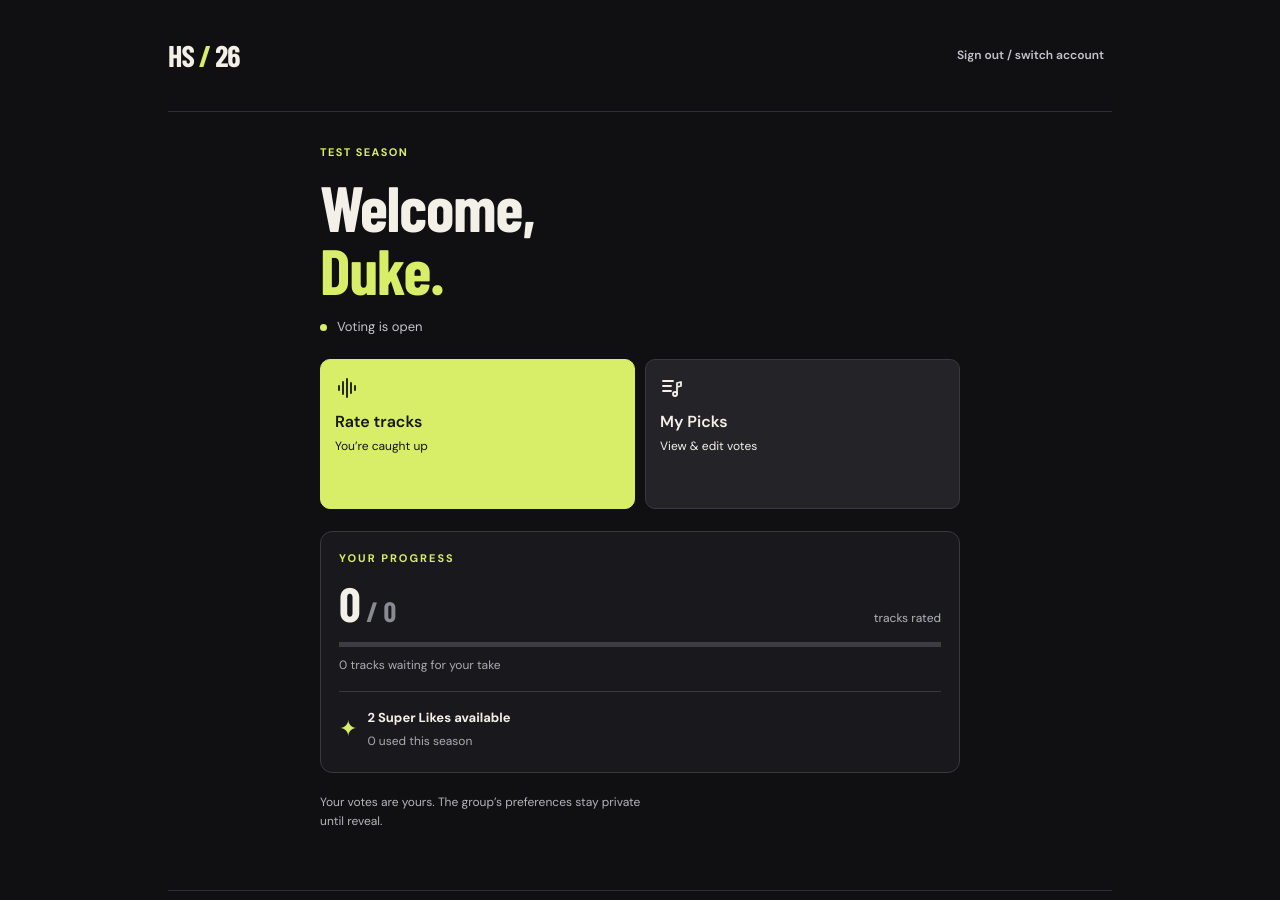
it: My Picks › shows an empty state and is reachable from Home
Click the link "My Picks View & edit votes" at (694, 422), box [645,359,960,509]
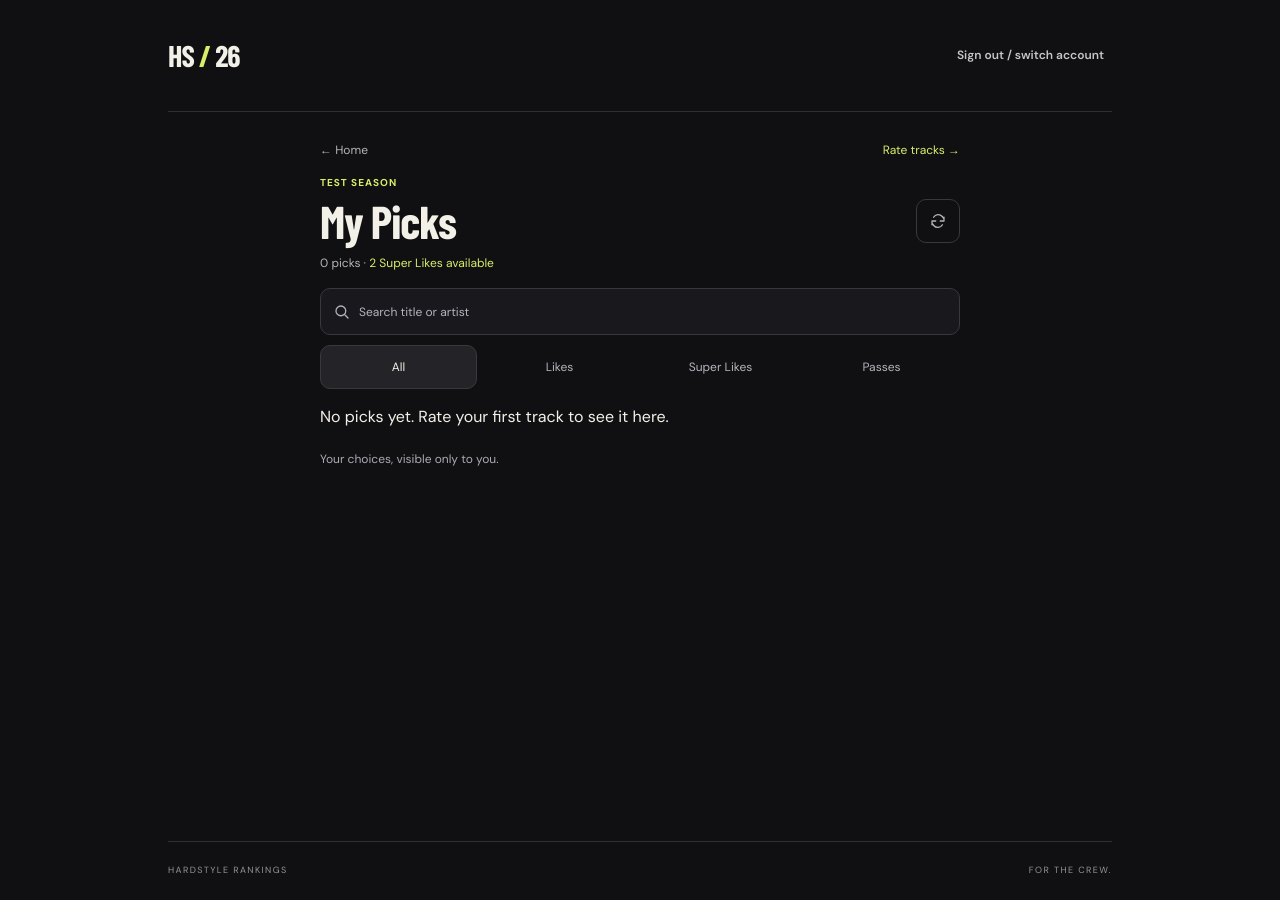
Check: the text "No picks yet. Rate your first track to see it here." is shown, box [320,406,669,427]
